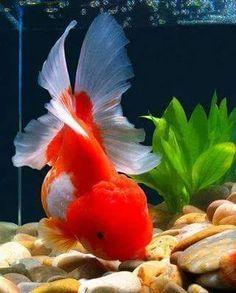goldfish: (14, 84, 182, 271)
